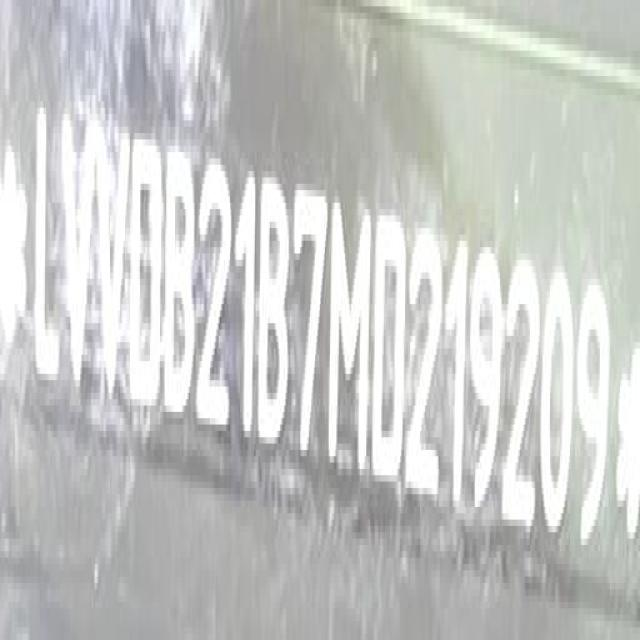0: (538, 258, 572, 544)
1: (444, 232, 467, 521), (237, 162, 256, 446)
2: (408, 215, 444, 506), (200, 156, 236, 438), (505, 246, 540, 536)
7: (294, 173, 328, 467)
9: (467, 236, 501, 528), (579, 275, 613, 558)
B: (256, 172, 292, 460), (164, 141, 197, 425)
D: (372, 197, 406, 491), (129, 134, 164, 418)
L: (33, 89, 61, 394)
M: (329, 187, 371, 482)
V: (62, 98, 97, 396), (95, 115, 131, 399)
